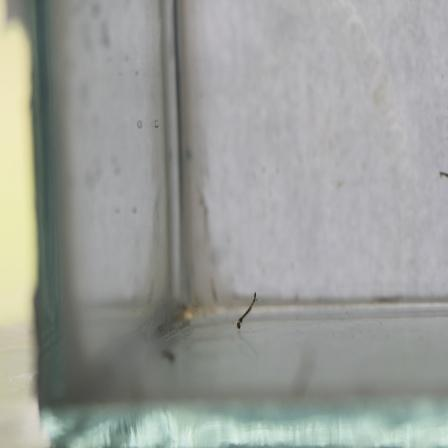Jentik-Nyamuk: (229, 288, 263, 335)
